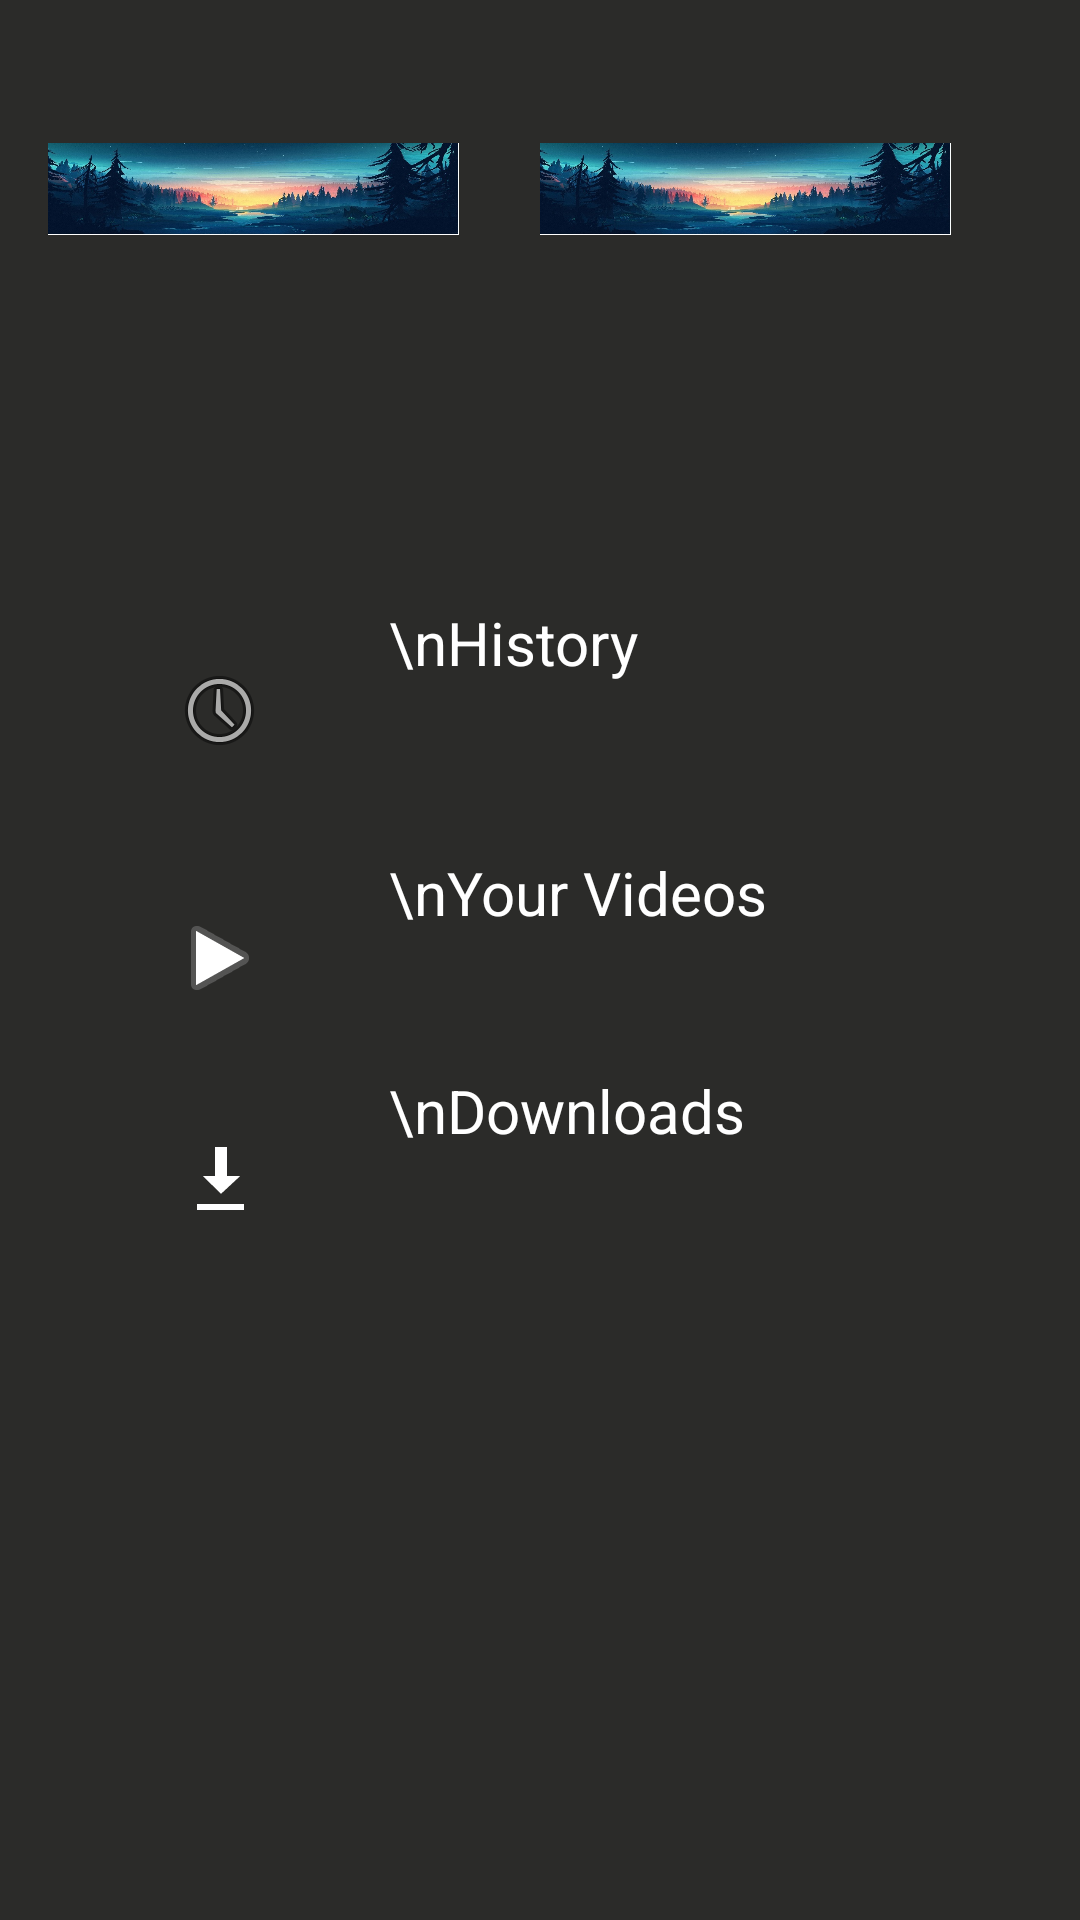

Named icons in this screenshot (1080×1920) and their bounding boxes, (x1, y1, x2, y2):
play: (191, 926, 249, 990)
recent history: (187, 678, 252, 743)
